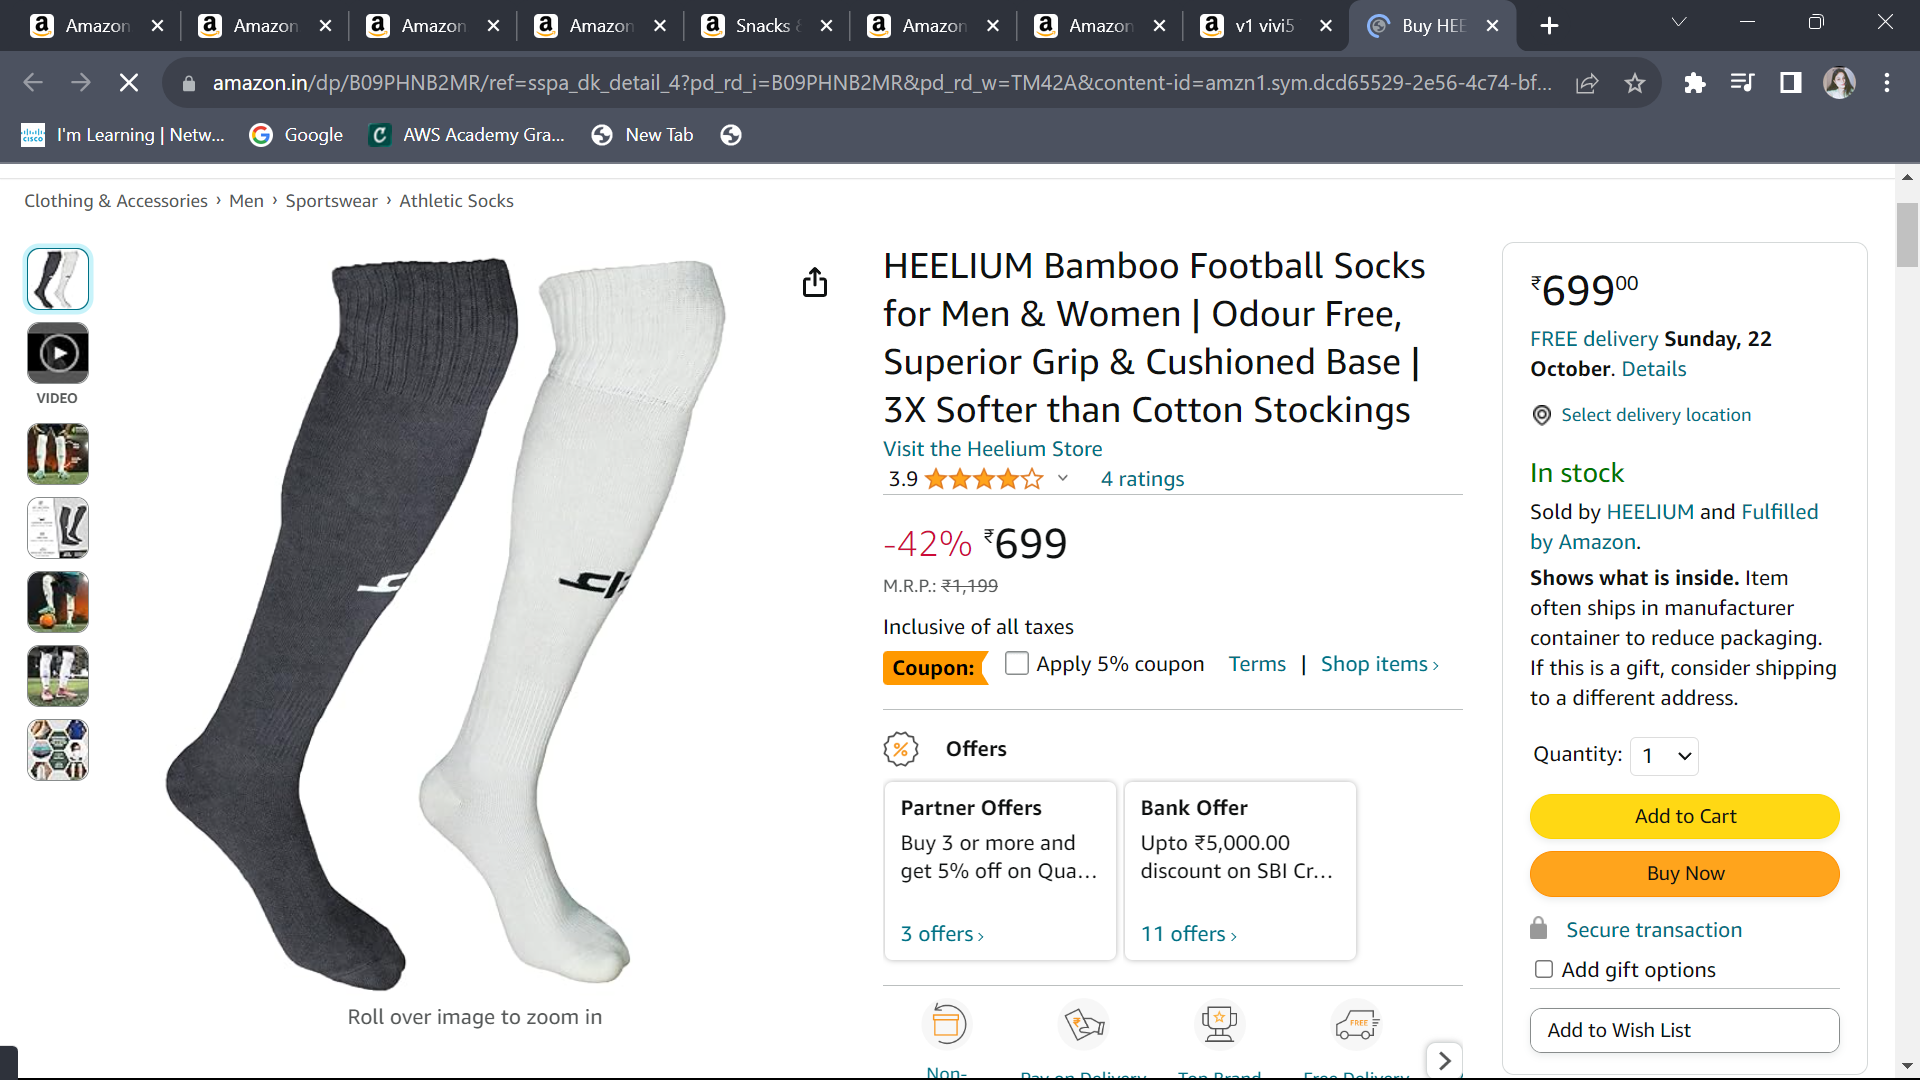Image: (152, 262, 737, 992)
Paragraph: (855, 732, 1356, 985), (833, 248, 1419, 433), (1516, 501, 1842, 735), (862, 615, 1448, 716), (1523, 770, 1840, 902), (1516, 907, 1821, 997), (1505, 316, 1792, 392), (862, 442, 1195, 505), (866, 520, 1117, 603), (1526, 1004, 1783, 1046), (1520, 262, 1663, 326), (1516, 454, 1667, 493), (1514, 406, 1809, 425), (1505, 741, 1724, 758)
